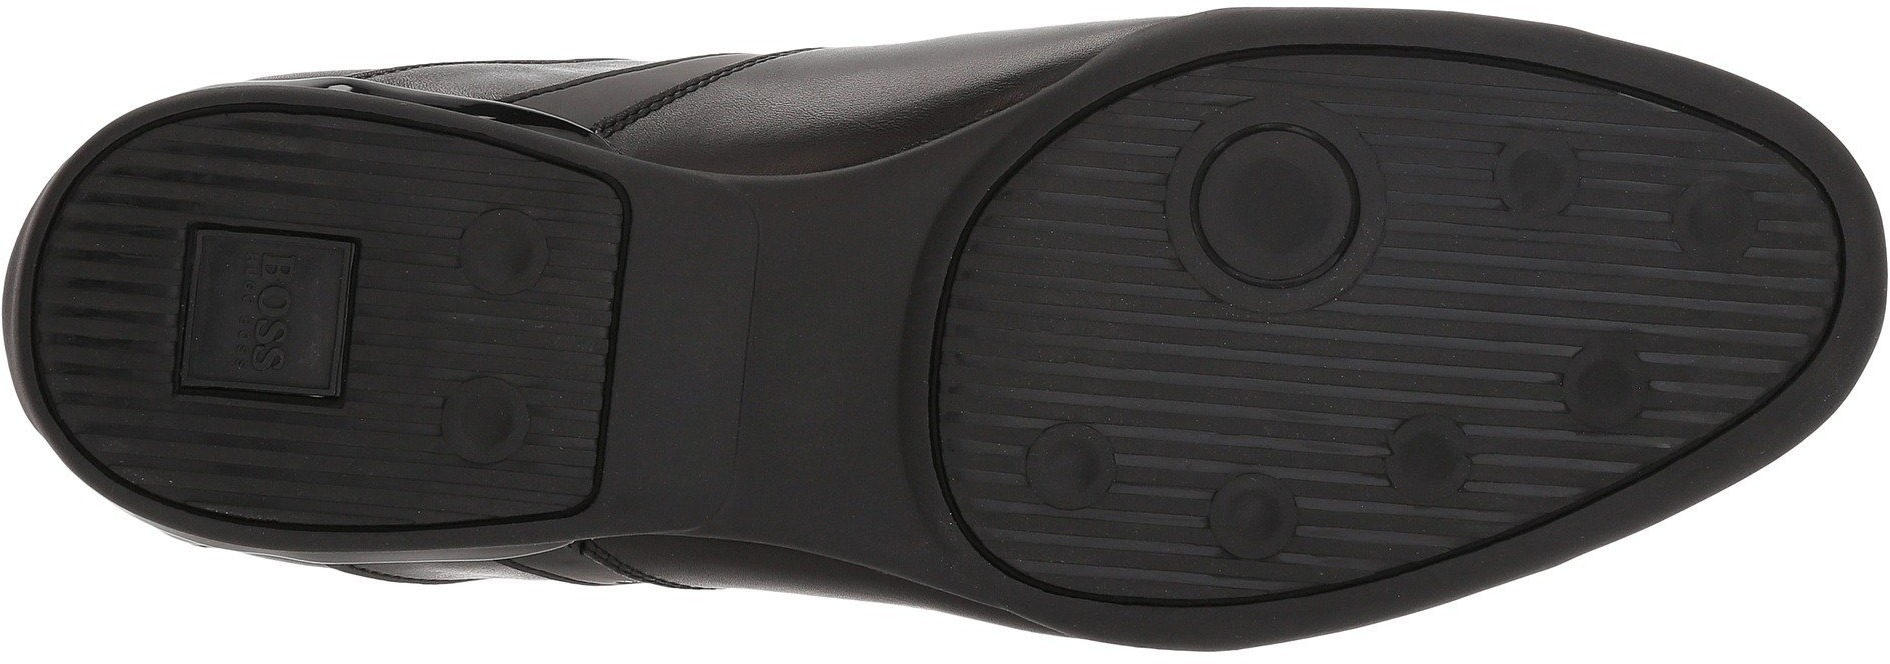circle: (1152, 108, 1385, 341), (174, 212, 391, 407), (1151, 416, 1336, 588), (1342, 389, 1512, 543), (1019, 405, 1127, 537), (1474, 121, 1597, 236), (1196, 458, 1311, 574), (421, 372, 536, 484), (1543, 337, 1655, 445), (1654, 163, 1761, 271), (1368, 419, 1472, 519), (441, 207, 547, 302)
line: (1152, 108, 1385, 341), (174, 212, 391, 407), (1151, 416, 1336, 588), (1342, 389, 1512, 543), (1019, 405, 1127, 537), (1474, 121, 1597, 236), (421, 372, 536, 484), (1543, 337, 1655, 445), (1654, 163, 1761, 271), (441, 207, 547, 302)
quad: (638, 202, 903, 439), (174, 212, 391, 407)
text: (174, 212, 391, 407), (212, 260, 313, 369)
